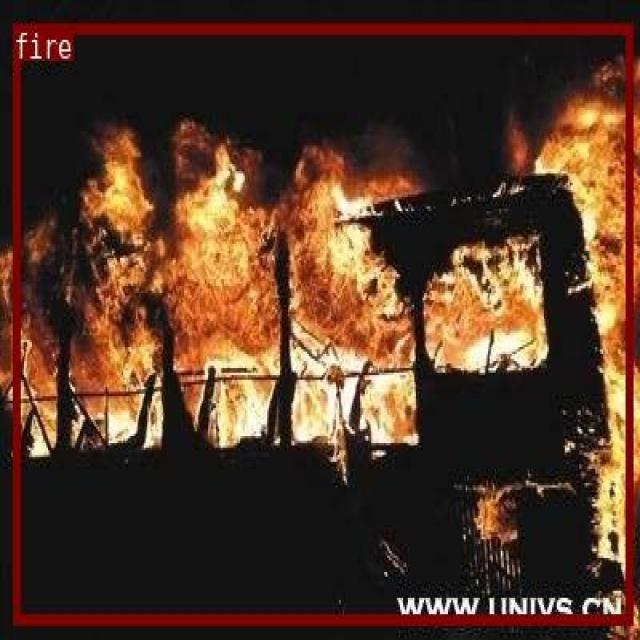fire: (12, 23, 631, 622)
